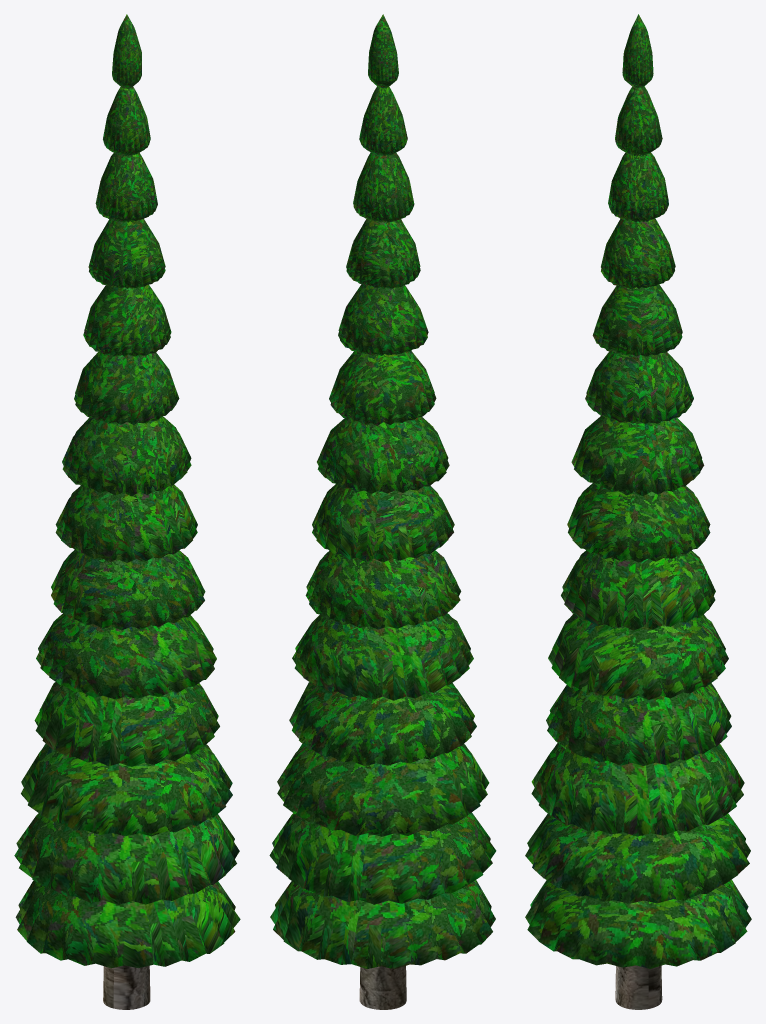
The model's file is tree_fir.glb.
The picture shows the model from 3 angles, left to right: view 1: azimuth 30°, elevation 25°; view 2: azimuth 150°, elevation 25°; view 3: azimuth 270°, elevation 25°; orthographic projection.
Visible parts, largest first — view 1: Canopy_1, Canopy_2, Canopy_0, Canopy_4, Canopy_3, Canopy_5, Canopy_6, Canopy_7, Canopy_8, Canopy_9, Canopy_10, Canopy_11 (+3 smaller); view 2: Canopy_1, Canopy_2, Canopy_0, Canopy_4, Canopy_3, Canopy_5, Canopy_6, Canopy_7, Canopy_8, Canopy_9, Canopy_10, Canopy_11 (+3 smaller); view 3: Canopy_1, Canopy_2, Canopy_0, Canopy_4, Canopy_3, Canopy_5, Canopy_6, Canopy_7, Canopy_8, Canopy_9, Canopy_10, Canopy_11 (+3 smaller).
Boxes of the visible parts, left/top/right/bottom form: Canopy_1: left=14, top=813, right=239, bottom=904; Canopy_2: left=21, top=743, right=232, bottom=836; Canopy_0: left=15, top=880, right=240, bottom=968; Canopy_4: left=36, top=613, right=216, bottom=699; Canopy_3: left=34, top=682, right=219, bottom=766; Canopy_5: left=51, top=550, right=205, bottom=630; Canopy_6: left=55, top=484, right=197, bottom=562; Canopy_7: left=62, top=416, right=191, bottom=496; Canopy_8: left=74, top=352, right=179, bottom=424; Canopy_9: left=83, top=284, right=171, bottom=356; Canopy_10: left=88, top=218, right=165, bottom=288; Canopy_11: left=95, top=153, right=157, bottom=222; Canopy_1: left=269, top=812, right=496, bottom=904; Canopy_2: left=277, top=744, right=489, bottom=836; Canopy_0: left=270, top=880, right=495, bottom=969; Canopy_4: left=292, top=613, right=473, bottom=700; Canopy_3: left=289, top=682, right=476, bottom=766; Canopy_5: left=305, top=550, right=461, bottom=629; Canopy_6: left=312, top=483, right=454, bottom=562; Canopy_7: left=317, top=417, right=449, bottom=493; Canopy_8: left=329, top=351, right=436, bottom=425; Canopy_9: left=338, top=284, right=428, bottom=355; Canopy_10: left=346, top=219, right=420, bottom=288; Canopy_11: left=353, top=152, right=414, bottom=222; Canopy_1: left=525, top=813, right=750, bottom=903; Canopy_2: left=531, top=743, right=744, bottom=836; Canopy_0: left=525, top=879, right=751, bottom=968; Canopy_4: left=548, top=613, right=728, bottom=699; Canopy_3: left=546, top=683, right=731, bottom=765; Canopy_5: left=561, top=550, right=715, bottom=630; Canopy_6: left=567, top=483, right=710, bottom=562; Canopy_7: left=571, top=415, right=704, bottom=495; Canopy_8: left=585, top=351, right=693, bottom=423; Canopy_9: left=592, top=284, right=682, bottom=356; Canopy_10: left=601, top=218, right=675, bottom=288; Canopy_11: left=608, top=152, right=668, bottom=222.
Bounding box in the file's own units: 1.72 × 8.28 × 1.73.
Materials: 2 (2 with a texture image).
